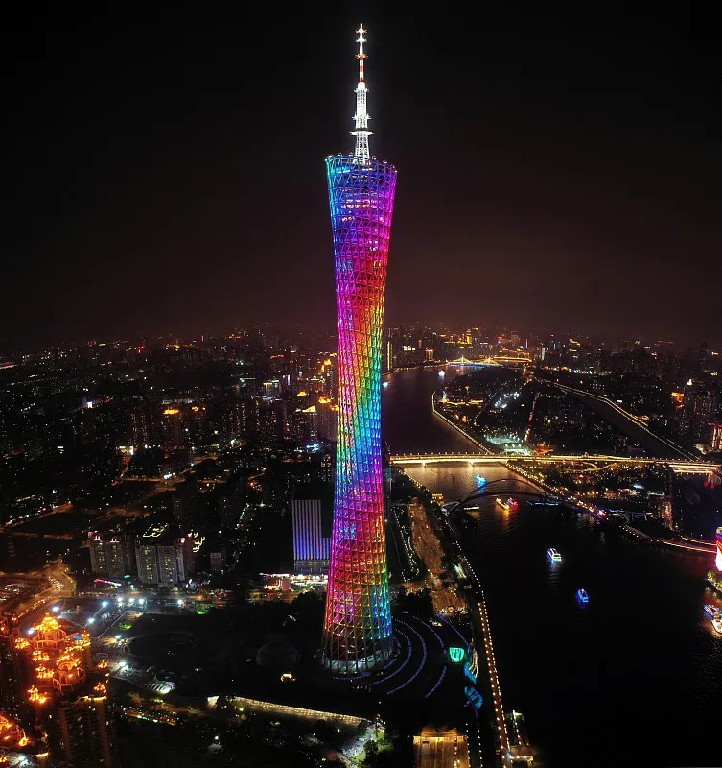Canton: (315, 20, 400, 681)
